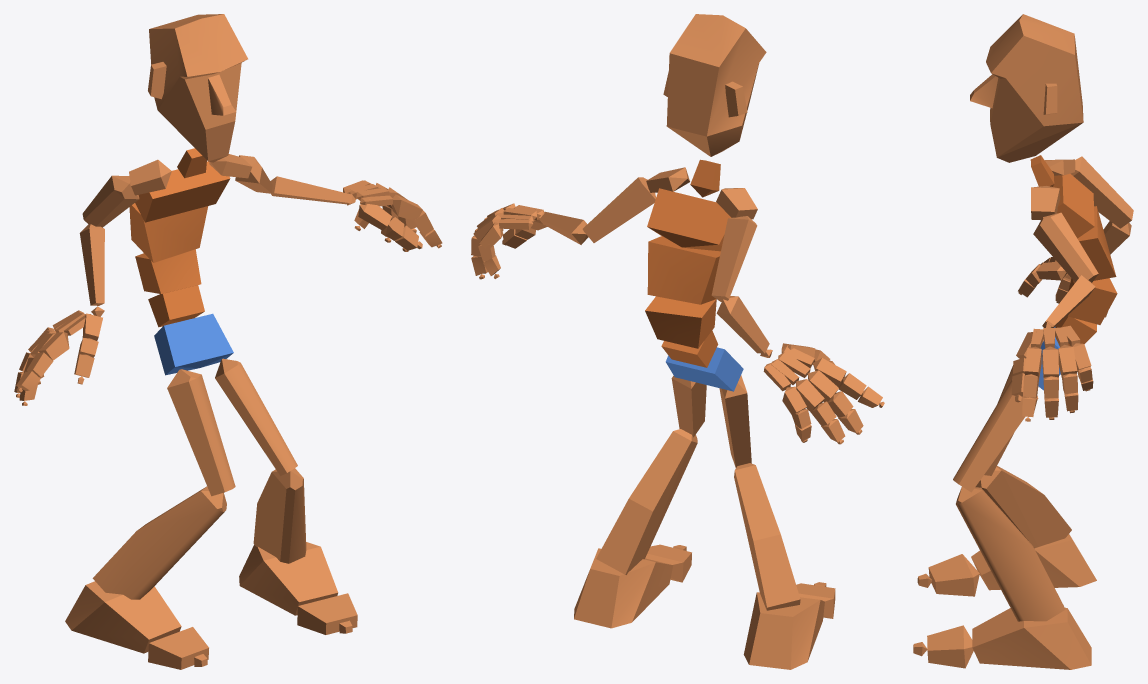
Rendered from prueba95.obj.
The picture shows the model from 3 angles, left to right: view 1: azimuth 30°, elevation 25°; view 2: azimuth 150°, elevation 25°; view 3: azimuth 270°, elevation 25°; orthographic projection. The views are drawn at different scales.
Parts seen in each view (by area): view 1: BOPED_Head, BOPED_R_leg, BOPED_R_foot, BOPED_R_foot01, BOPED_R_legup, BOPED_L_leg, Bone01, BOPED_L_legup, Bone04, Bone05, Bone03, BOPED_R_foot_toe04 (+9 smaller); view 2: BOPED_Head, BOPED_L_leg, BOPED_R_leg, BOPED_R_foot01, BOPED_R_foot, Bone04, Bone05, Bone03, BOPED_R_arm_upper, BOPED_L_arm_upper, BOPED_R_legup, Bone01 (+9 smaller); view 3: BOPED_Head, BOPED_L_leg, BOPED_R_foot01, BOPED_R_leg, BOPED_L_legup, BOPED_R_foot, BOPED_L_arm_upper, Bone05, BOPED_R_arm_upper, BOPED_R_foot_toe01, BOPED_R_foot_toe04, Bone04 (+14 smaller).
Boxes of the visible parts, <box> form: BOPED_Head: <box>148,14,247,162</box>; BOPED_R_leg: <box>92,486,226,599</box>; BOPED_R_foot: <box>65,581,181,653</box>; BOPED_R_foot01: <box>239,542,338,615</box>; BOPED_R_legup: <box>167,369,235,496</box>; BOPED_L_leg: <box>253,468,306,563</box>; Bone01: <box>154,313,233,375</box>; BOPED_L_legup: <box>215,358,297,475</box>; Bone04: <box>129,203,208,262</box>; Bone05: <box>135,161,230,222</box>; Bone03: <box>135,249,201,293</box>; BOPED_R_foot_toe04: <box>297,593,357,634</box>; BOPED_Head: <box>663,14,766,156</box>; BOPED_L_leg: <box>596,429,697,574</box>; BOPED_R_leg: <box>734,463,800,610</box>; BOPED_R_foot01: <box>574,548,673,628</box>; BOPED_R_foot: <box>743,592,824,669</box>; Bone04: <box>647,236,720,304</box>; Bone05: <box>647,188,731,251</box>; Bone03: <box>645,296,716,348</box>; BOPED_R_arm_upper: <box>711,216,757,301</box>; BOPED_L_arm_upper: <box>582,177,656,242</box>; BOPED_R_legup: <box>719,375,751,467</box>; Bone01: <box>665,347,743,391</box>; BOPED_Head: <box>970,14,1083,162</box>; BOPED_L_leg: <box>956,487,1065,621</box>; BOPED_R_foot01: <box>972,607,1091,669</box>; BOPED_R_leg: <box>975,466,1071,548</box>; BOPED_L_legup: <box>953,380,1038,492</box>; BOPED_R_foot: <box>971,534,1096,590</box>; BOPED_L_arm_upper: <box>1033,212,1098,282</box>; Bone05: <box>1053,173,1094,238</box>; BOPED_R_arm_upper: <box>1070,156,1133,228</box>; BOPED_R_foot_toe01: <box>928,554,979,596</box>; BOPED_R_foot_toe04: <box>927,625,973,668</box>; Bone04: <box>1073,206,1116,283</box>.
Bounding box in the file's own units: 130 × 180 × 60.99.
